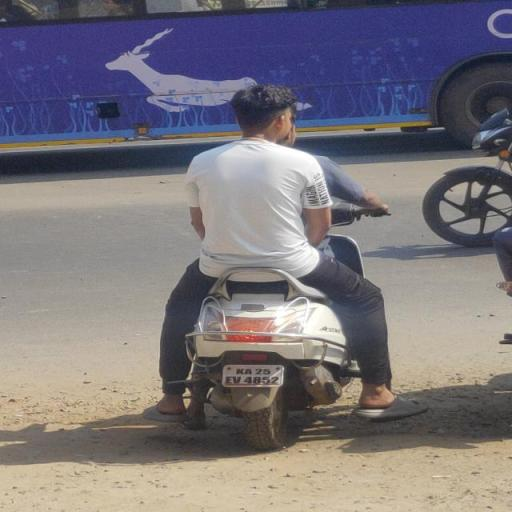bike: (138, 82, 402, 452)
numberplate: (221, 364, 282, 388)
withouthelmet: (232, 87, 295, 139)
